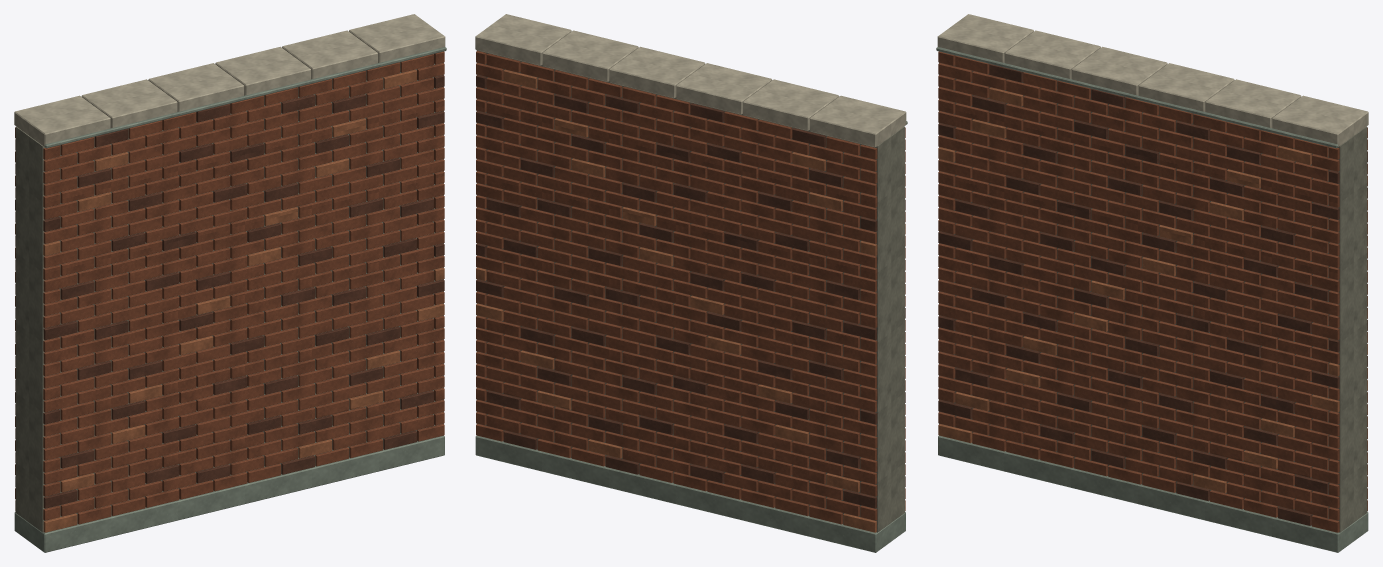
3 renders of one model, left to right at view 1: azimuth 30°, elevation 25°; view 2: azimuth 150°, elevation 25°; view 3: azimuth 330°, elevation 25°, orthographic.
Visible parts, largest first — view 1: A001-01_LOD0; view 2: A001-01_LOD0; view 3: A001-01_LOD0.
Part boxes in pixels (left/top/right/bottom): A001-01_LOD0: left=14, top=14, right=446, bottom=552; A001-01_LOD0: left=475, top=14, right=907, bottom=552; A001-01_LOD0: left=936, top=14, right=1368, bottom=552.
Size of the model in its own units: 3 by 3 by 0.419.
6 materials, 6 textured.
